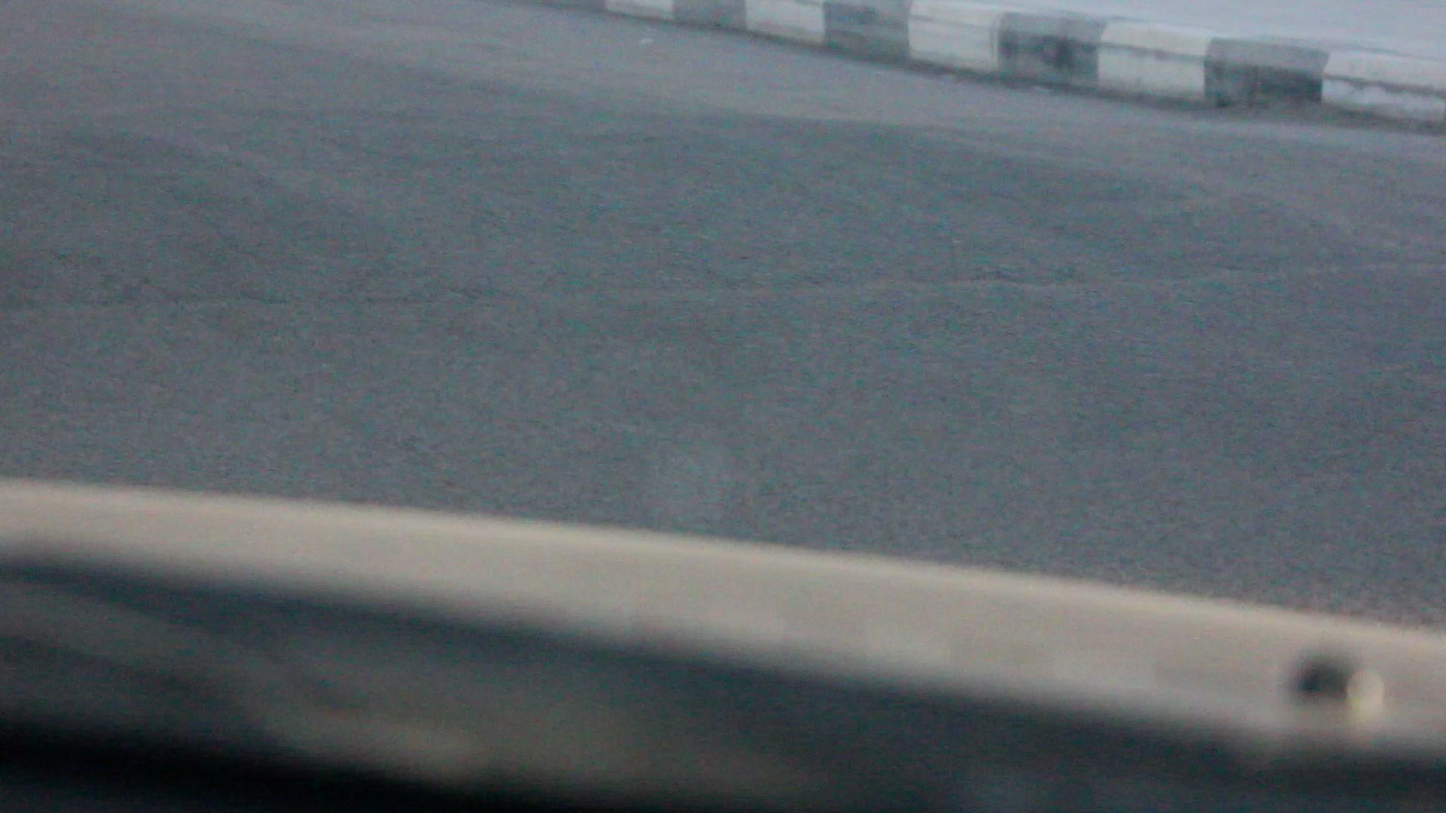Bump: (0, 94, 1445, 301)
